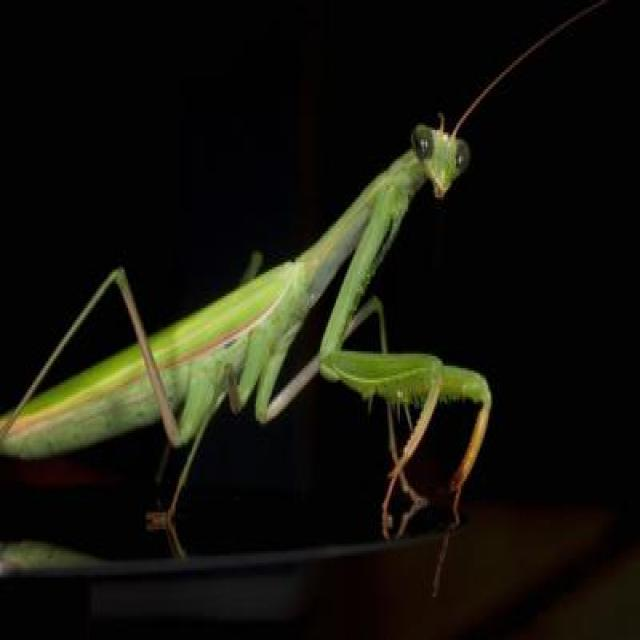antennae: (452, 14, 582, 136)
body: (0, 130, 467, 457)
insect: (0, 12, 586, 565)
legs: (319, 208, 487, 503), (316, 208, 448, 536), (0, 269, 233, 443), (144, 334, 276, 556)
mouthpart: (434, 181, 451, 202)
wings: (1, 260, 295, 434)
